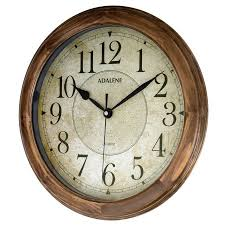alarm_clock: (18, 2, 205, 221), (18, 17, 205, 221)
